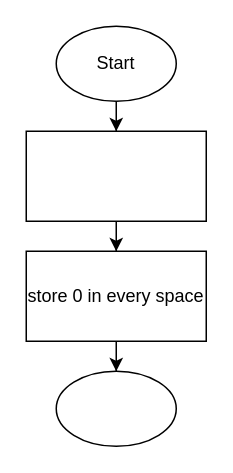
The diagram is 233 pixels wide and 473 high, and some of its shapes have lost their labels. Each missing label, with the centre of its shape:
load ptr_to_links: (x=115, y=175)
Stop: (x=115, y=408)
